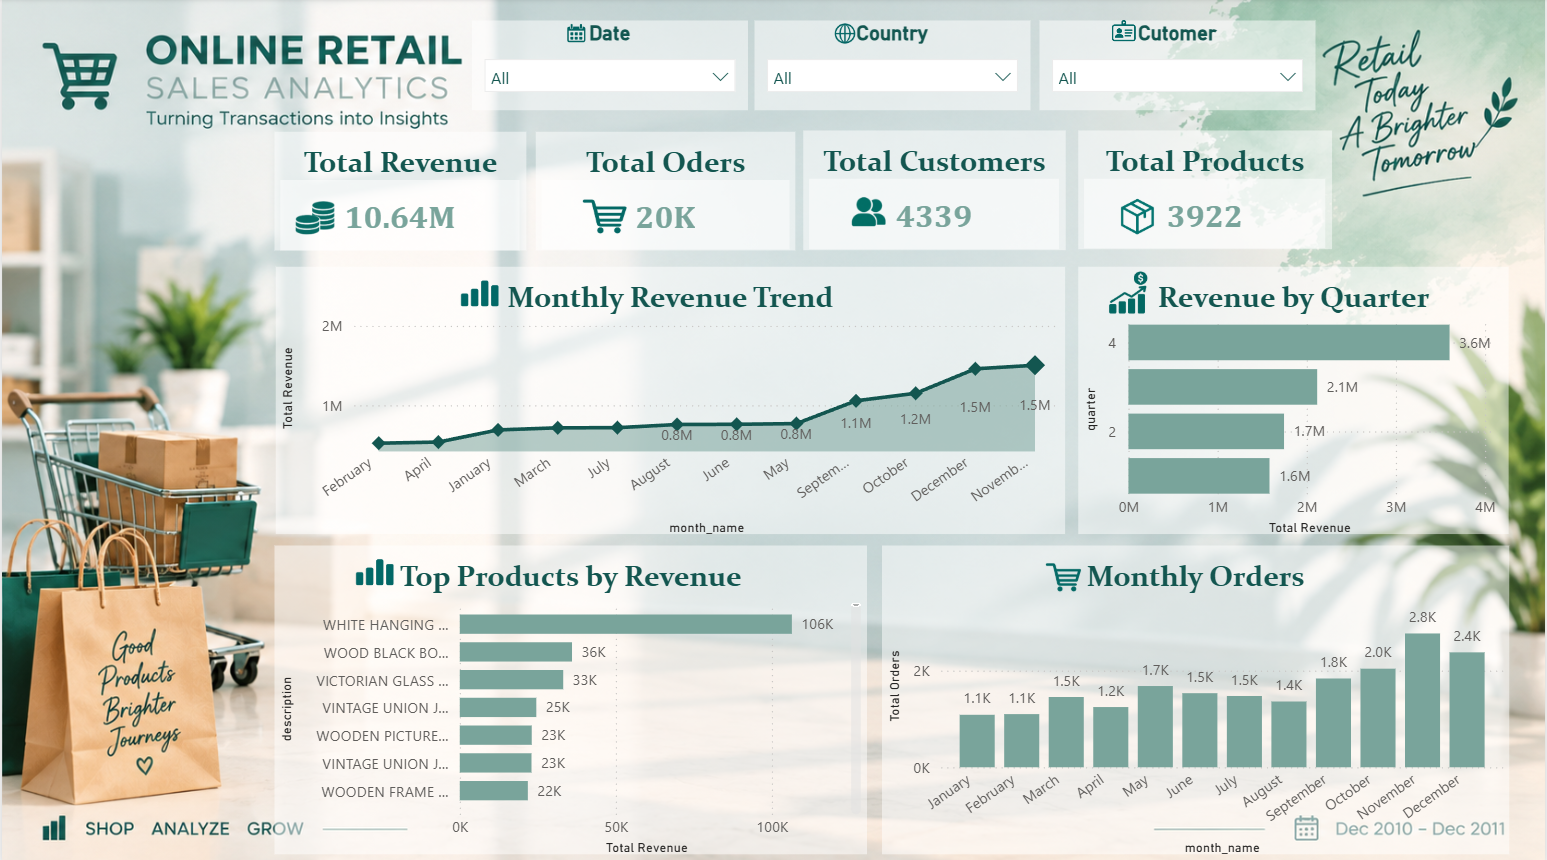

What the dashboard file says about the page in this screenshot:
{"tool":"powerbi","page":{"name":"Page 1","canvas":[1280,720],"ordinal":0},"visuals":[{"type":"cardVisual","title":"Total Revenue ","fields":{"Data":["public fact_sales.Total Revenue"]},"box":[225.9,110.9,208.9,98.7],"z":0},{"type":"cardVisual","title":"Total Oders","fields":{"Data":["public dim_customer.Total Orders"]},"box":[442.5,110.9,215.5,98.4],"z":1000},{"type":"cardVisual","title":"Total Customers","fields":{"Data":["public dim_customer.Total Customers"]},"box":[664.3,109.8,217.6,99.5],"z":2000},{"type":"cardVisual","title":"Total Products","fields":{"Data":["public dim_customer.Total Products"]},"box":[892.2,109.8,210.4,98.4],"z":3000},{"type":"stackedAreaChart","title":"Monthly Revenue Trend","fields":{"Category":["public dim_date.month_name"],"Y":["public fact_sales.Total Revenue"]},"box":[226.6,222.8,654.4,221.5],"z":4000},{"type":"clusteredBarChart","title":"Top Products by Revenue","fields":{"Category":["public dim_product.description"],"Y":["public fact_sales.Total Revenue"]},"box":[226.2,453.8,491.2,256.2],"z":5000},{"type":"barChart","title":"Revenue by Quarter","fields":{"Y":["public fact_sales.Total Revenue"],"Category":["public dim_date.quarter"]},"box":[892.4,222.8,357,221.5],"z":6000},{"type":"lineClusteredColumnComboChart","title":"Monthly Orders","fields":{"Category":["public dim_date.month_name"],"Y":["public dim_customer.Total Orders"]},"box":[730,453.8,520,256.2],"z":7000},{"type":"slicer","title":"Date","fields":{"Values":["public dim_date.full_date"]},"box":[390,18.6,228.6,74.3],"z":8000},{"type":"slicer","title":"Country","fields":{"Values":["public dim_customer.country"]},"box":[624.3,18.6,228.6,74.3],"z":9000},{"type":"slicer","title":"Cutomer","fields":{"Values":["public dim_customer.customer_id"]},"box":[860,18.6,228.6,74.3],"z":10000},{"type":"image","box":[216.2,157.5,83.8,48.8],"z":11000},{"type":"image","box":[657.7,150.7,120.8,49.2],"z":12000},{"type":"image","box":[458.4,160.6,83.2,38.7],"z":13000},{"type":"image","box":[915.6,159.4,50.4,39.9],"z":14000},{"type":"image","box":[833.6,463.1,93.8,31.7],"z":15000},{"type":"image","box":[308,223,175,41],"z":16000},{"type":"image","box":[221,454,175,41],"z":17000},{"type":"image","box":[833,223.3,196.5,40.2],"z":18000},{"type":"image","box":[442.3,18.5,67.7,20.8],"z":19000},{"type":"image","box":[673.8,18.5,50.8,20.8],"z":20000},{"type":"image","box":[886,14.5,88.5,24.6],"z":21000}]}

Visuals, with their boxes in screenshot pixels (x1, y1, x2, y2), scaled from the page's 1280x720 canvas onto the 1547x860 screenshot:
"Total Revenue " cardVisual: crop(273, 132, 525, 250)
"Total Oders" cardVisual: crop(535, 132, 795, 250)
"Total Customers" cardVisual: crop(803, 131, 1066, 250)
"Total Products" cardVisual: crop(1078, 131, 1333, 249)
"Monthly Revenue Trend" stackedAreaChart: crop(274, 266, 1065, 531)
"Top Products by Revenue" clusteredBarChart: crop(273, 542, 867, 848)
"Revenue by Quarter" barChart: crop(1079, 266, 1510, 531)
"Monthly Orders" lineClusteredColumnComboChart: crop(882, 542, 1511, 848)
"Date" slicer: crop(471, 22, 748, 111)
"Country" slicer: crop(755, 22, 1031, 111)
"Cutomer" slicer: crop(1039, 22, 1316, 111)
image: crop(261, 188, 363, 246)
image: crop(795, 180, 941, 239)
image: crop(554, 192, 655, 238)
image: crop(1107, 190, 1168, 238)
image: crop(1007, 553, 1121, 591)
image: crop(372, 266, 584, 315)
image: crop(267, 542, 479, 591)
image: crop(1007, 267, 1244, 315)
image: crop(535, 22, 616, 47)
image: crop(814, 22, 876, 47)
image: crop(1071, 17, 1178, 47)
